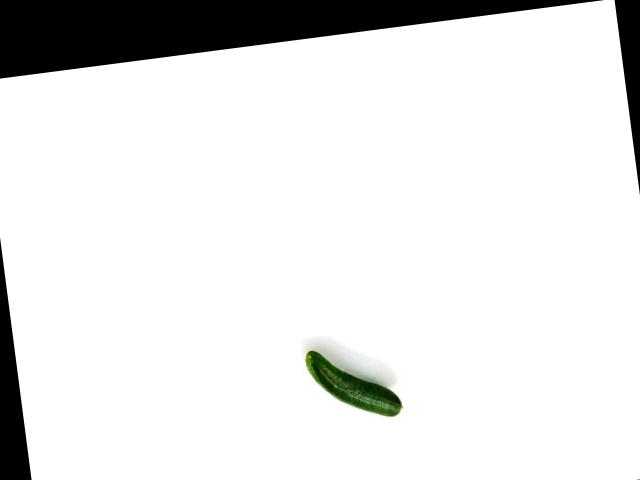cucumber: (305, 339, 403, 426)
